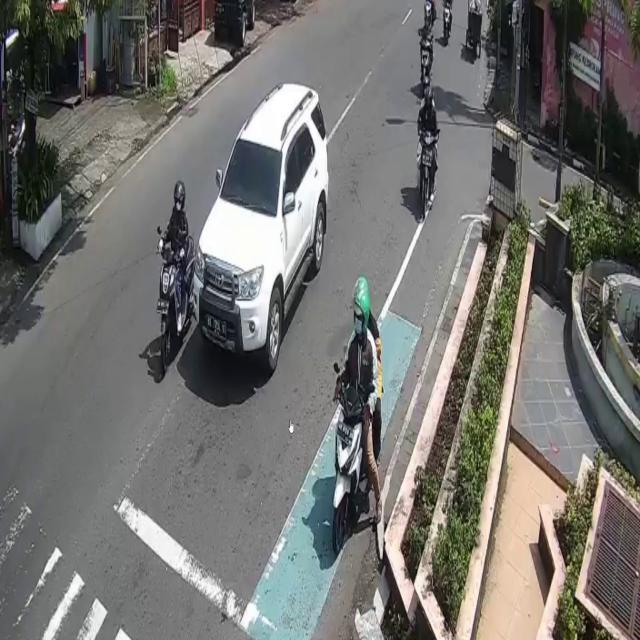car: (192, 80, 328, 374)
motorbike: (156, 233, 195, 376), (334, 386, 366, 552), (418, 130, 434, 224)
